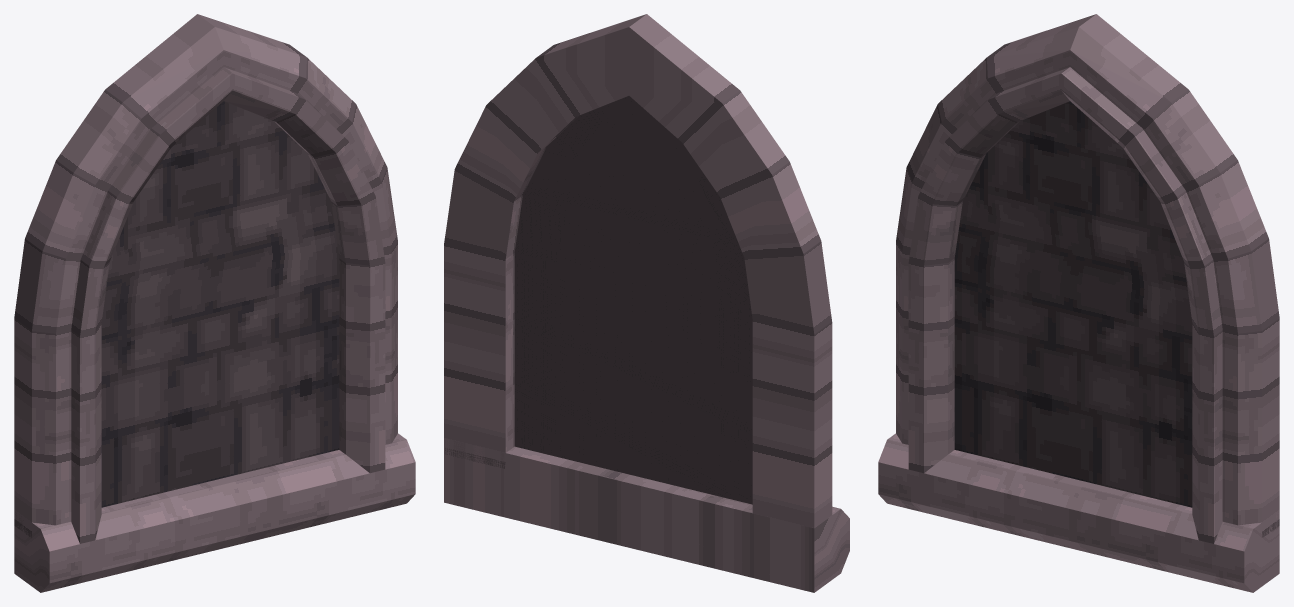
File: wall_niche_corridor_c.glb
3 renders of one model, left to right at view 1: azimuth 30°, elevation 25°; view 2: azimuth 150°, elevation 25°; view 3: azimuth 330°, elevation 25°, orthographic.
Visible parts, largest first — view 1: frame, back_plate, sill; view 2: back_plate, frame, sill; view 3: frame, back_plate, sill.
Part boxes in pixels (<box>): frame: <box>14,14,397,543</box>; back_plate: <box>101,101,339,507</box>; sill: <box>14,433,415,592</box>; back_plate: <box>514,96,752,504</box>; frame: <box>444,14,832,528</box>; sill: <box>444,438,849,592</box>; frame: <box>896,14,1279,543</box>; back_plate: <box>954,101,1192,507</box>; sill: <box>878,433,1279,592</box>.
Bounding box in the file's own units: 1.5 × 2.02 × 0.25.
1 material, 1 textured.
